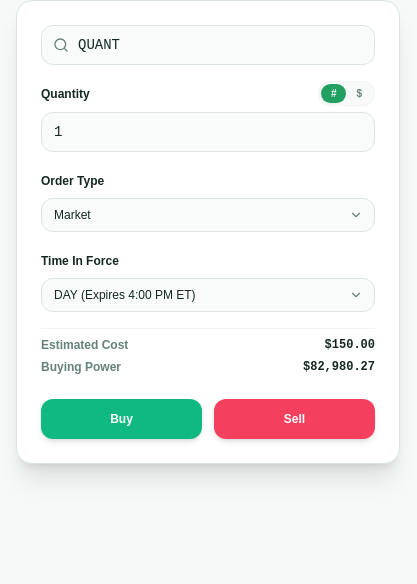
HijackPanel Component › displays limit price field only when limit order type is selected
This screenshot has width=417, height=584.
Expected: the field labelled "Limit Price" is not shown
Note: Toggle to Limit
Select "Limit" in the dropdown labelled "Order Type": {"x": 208, "y": 215} x1=41 y1=198 x2=375 y2=232
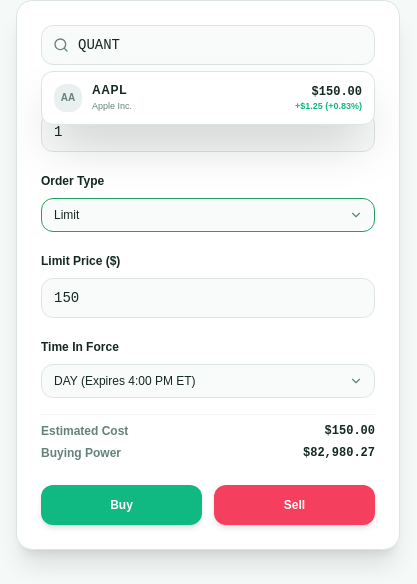
Expected: the number field labelled "Limit Price ($)" holds "150", x1=41 y1=278 x2=375 y2=318
Note: Toggle back to Market
Select "Market" in the dropdown labelled "Order Type": {"x": 208, "y": 215} x1=41 y1=198 x2=375 y2=232
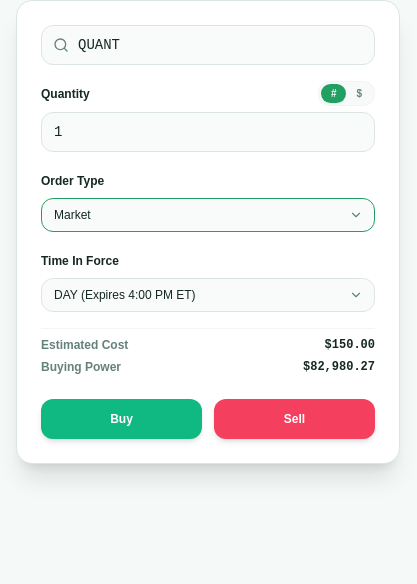
Expected: the label labelled "Limit Price" is gone
